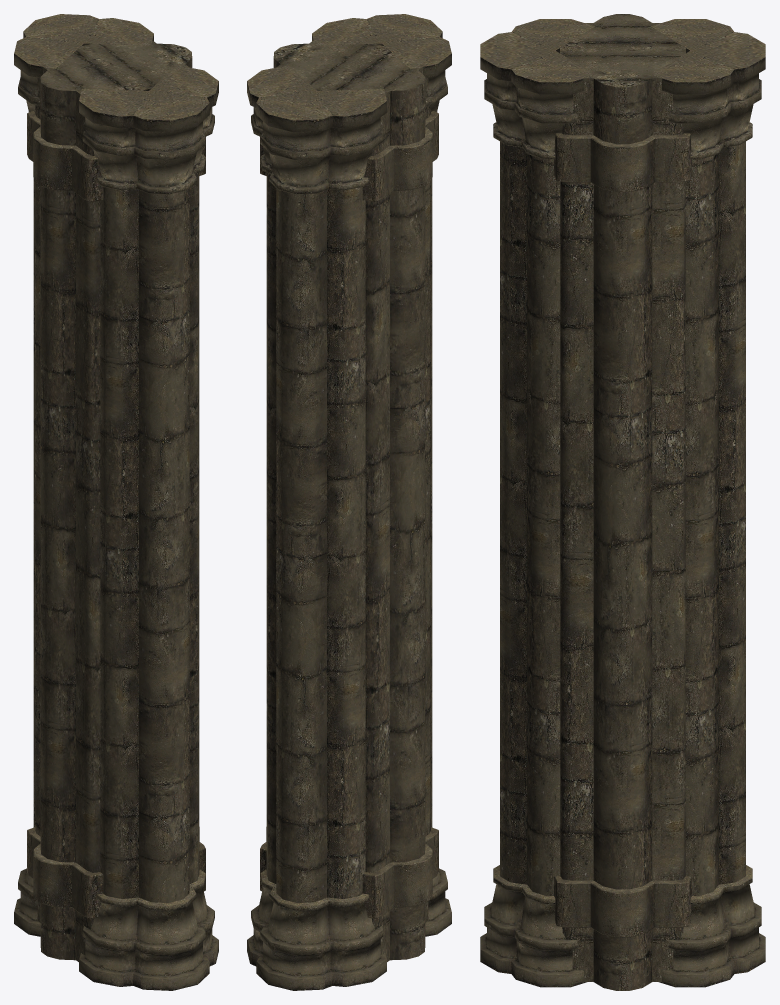
Rendered from NC_pillar_heavy.DAE.
3 renders of one model, left to right at view 1: azimuth 30°, elevation 25°; view 2: azimuth 150°, elevation 25°; view 3: azimuth 270°, elevation 25°, orthographic. The views are drawn at different scales.
Parts seen in each view (by area): view 1: NC_pillar_arch_heavy; view 2: NC_pillar_arch_heavy; view 3: NC_pillar_arch_heavy.
Part boxes in pixels (x1,y1,x2,y2): NC_pillar_arch_heavy: (14, 14, 218, 990); NC_pillar_arch_heavy: (247, 14, 451, 990); NC_pillar_arch_heavy: (480, 14, 765, 990).
Size of the model in its own units: 1 by 1.5 by 5.26.
